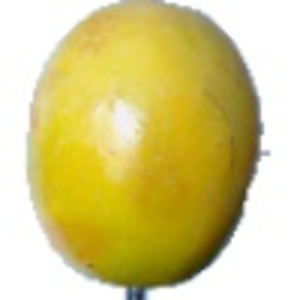maracujá: (23, 1, 271, 300)
